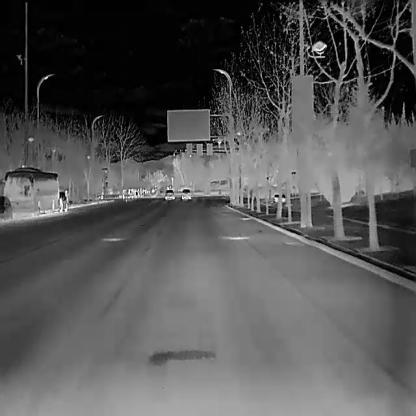car: (0, 166, 58, 217), (0, 195, 12, 220), (58, 191, 67, 212), (165, 189, 175, 199), (181, 189, 191, 199)
